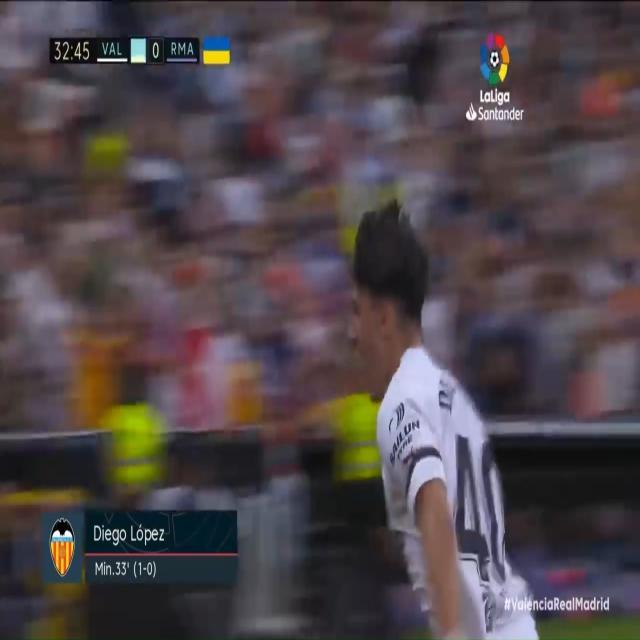player: (309, 161, 541, 640)
